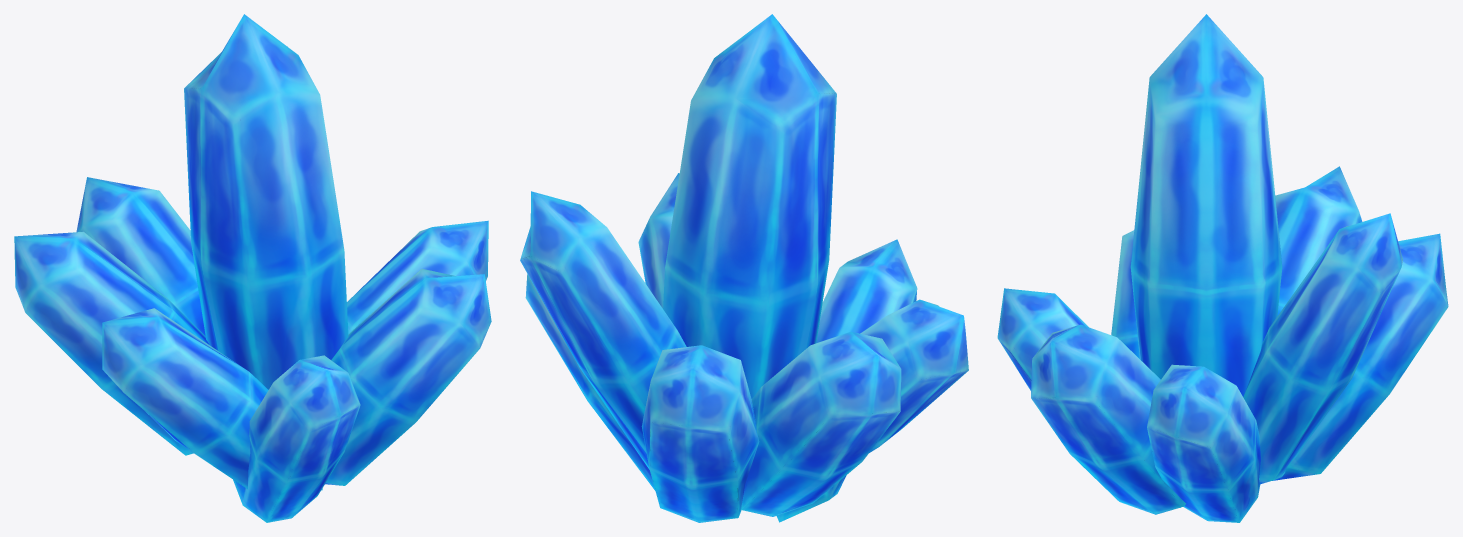
Rendered from gem3.glb.
3 views of the same model, side by side, from view 1: azimuth 30°, elevation 25°; view 2: azimuth 150°, elevation 25°; view 3: azimuth 270°, elevation 25° (orthographic). The views are drawn at different scales.
Visible parts, largest first — view 1: Gem Pack; view 2: Gem Pack; view 3: Gem Pack.
Boxes of the visible parts, x1=… form: Gem Pack: x1=14, y1=14, x2=491, y2=522; Gem Pack: x1=520, y1=14, x2=968, y2=522; Gem Pack: x1=997, y1=14, x2=1448, y2=522.
Size of the model in its own units: 141 by 162 by 135.
Materials: 1 (1 with a texture image).
